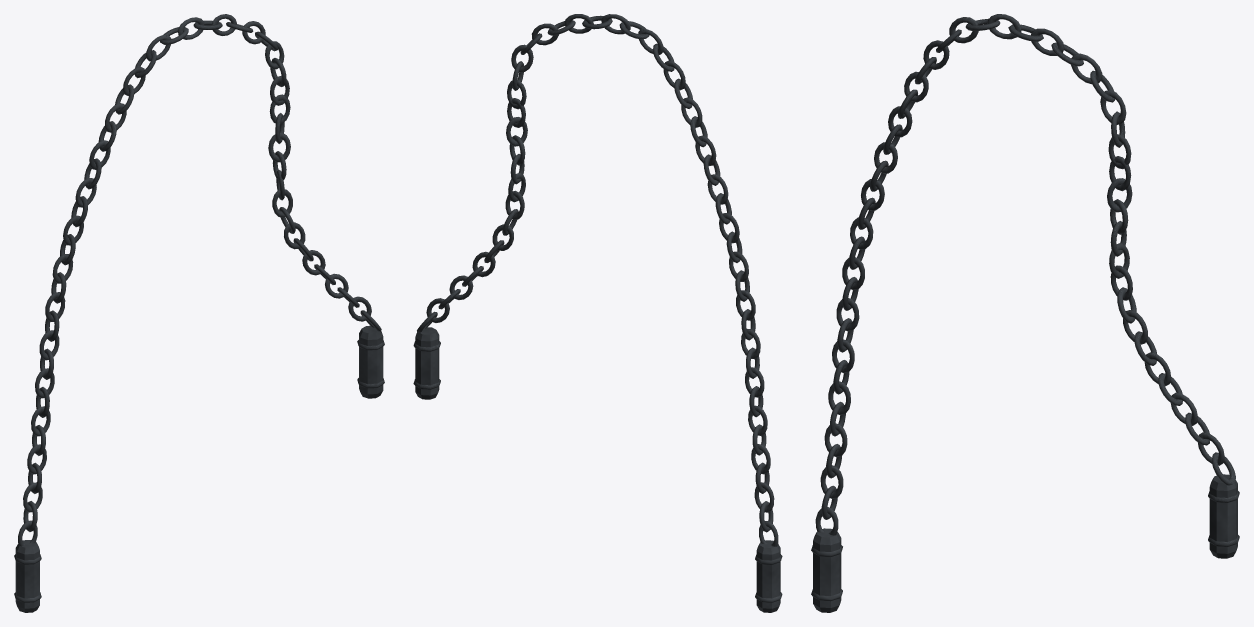
Rendered from weighted-chain.glb.
The picture shows the model from 3 angles, left to right: view 1: azimuth 30°, elevation 25°; view 2: azimuth 150°, elevation 25°; view 3: azimuth 330°, elevation 25°; orthographic projection. The views are drawn at different scales.
Visible parts, largest first — view 1: darksteel / oil-blackened fittings; view 2: darksteel / oil-blackened fittings; view 3: darksteel / oil-blackened fittings.
Part boxes in pixels (<box>): darksteel / oil-blackened fittings: <box>14,14,384,612</box>; darksteel / oil-blackened fittings: <box>413,14,782,612</box>; darksteel / oil-blackened fittings: <box>811,14,1239,612</box>.
Size of the model in its own units: 0.708 by 1.02 by 0.0636.
1 material, 1 textured.
